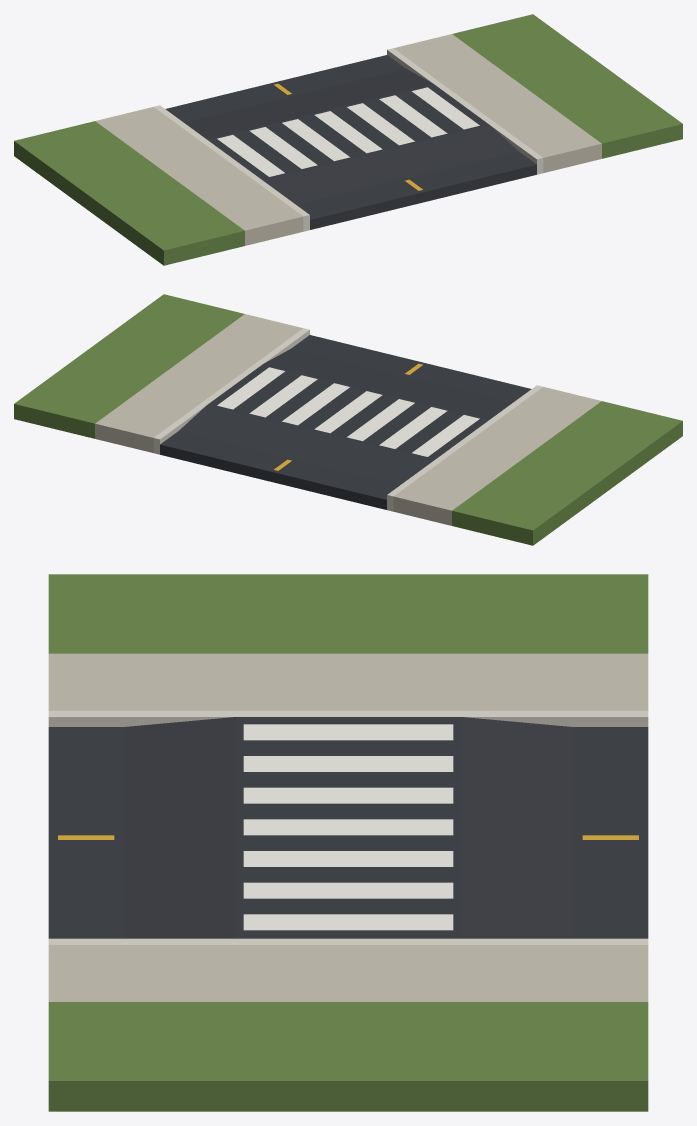
Rendered from Road_2Lane_Sidewalk_RaisedCrosswalk_8m.glb.
3 views of the same model, one above another, from view 1: azimuth 30°, elevation 25°; view 2: azimuth 150°, elevation 25°; view 3: azimuth 270°, elevation 25° (orthographic). The views are drawn at different scales.
Parts seen in each view (by area): view 1: Road_2Lane_Sidewalk_RaisedCrosswalk_8m_Asphalt, Road_2Lane_Sidewalk_RaisedCrosswalk_8m_Grass-edge, Road_2Lane_Sidewalk_RaisedCrosswalk_8m_Sidewalk, Road_2Lane_Sidewalk_RaisedCrosswalk_8m_PaintWhite, Road_2Lane_Sidewalk_RaisedCrosswalk_8m_Curb; view 2: Road_2Lane_Sidewalk_RaisedCrosswalk_8m_Asphalt, Road_2Lane_Sidewalk_RaisedCrosswalk_8m_Grass-edge, Road_2Lane_Sidewalk_RaisedCrosswalk_8m_Sidewalk, Road_2Lane_Sidewalk_RaisedCrosswalk_8m_PaintWhite, Road_2Lane_Sidewalk_RaisedCrosswalk_8m_Curb; view 3: Road_2Lane_Sidewalk_RaisedCrosswalk_8m_Grass-edge, Road_2Lane_Sidewalk_RaisedCrosswalk_8m_Asphalt, Road_2Lane_Sidewalk_RaisedCrosswalk_8m_Sidewalk, Road_2Lane_Sidewalk_RaisedCrosswalk_8m_PaintWhite, Road_2Lane_Sidewalk_RaisedCrosswalk_8m_Curb.
Boxes of the visible parts, x1=… form: Road_2Lane_Sidewalk_RaisedCrosswalk_8m_Asphalt: x1=165, y1=55, x2=536, y2=229; Road_2Lane_Sidewalk_RaisedCrosswalk_8m_Grass-edge: x1=14, y1=14, x2=682, y2=265; Road_2Lane_Sidewalk_RaisedCrosswalk_8m_Sidewalk: x1=95, y1=34, x2=601, y2=245; Road_2Lane_Sidewalk_RaisedCrosswalk_8m_PaintWhite: x1=217, y1=87, x2=479, y2=176; Road_2Lane_Sidewalk_RaisedCrosswalk_8m_Curb: x1=154, y1=48, x2=543, y2=231; Road_2Lane_Sidewalk_RaisedCrosswalk_8m_Asphalt: x1=160, y1=335, x2=531, y2=509; Road_2Lane_Sidewalk_RaisedCrosswalk_8m_Grass-edge: x1=14, y1=294, x2=682, y2=545; Road_2Lane_Sidewalk_RaisedCrosswalk_8m_Sidewalk: x1=95, y1=314, x2=601, y2=525; Road_2Lane_Sidewalk_RaisedCrosswalk_8m_PaintWhite: x1=217, y1=367, x2=479, y2=456; Road_2Lane_Sidewalk_RaisedCrosswalk_8m_Curb: x1=153, y1=328, x2=542, y2=511; Road_2Lane_Sidewalk_RaisedCrosswalk_8m_Grass-edge: x1=48, y1=574, x2=648, y2=1111; Road_2Lane_Sidewalk_RaisedCrosswalk_8m_Asphalt: x1=48, y1=717, x2=648, y2=938; Road_2Lane_Sidewalk_RaisedCrosswalk_8m_Sidewalk: x1=48, y1=653, x2=648, y2=1001; Road_2Lane_Sidewalk_RaisedCrosswalk_8m_PaintWhite: x1=243, y1=724, x2=453, y2=930; Road_2Lane_Sidewalk_RaisedCrosswalk_8m_Curb: x1=48, y1=710, x2=648, y2=944.
Size of the model in its own units: 16 by 0.455 by 8.
